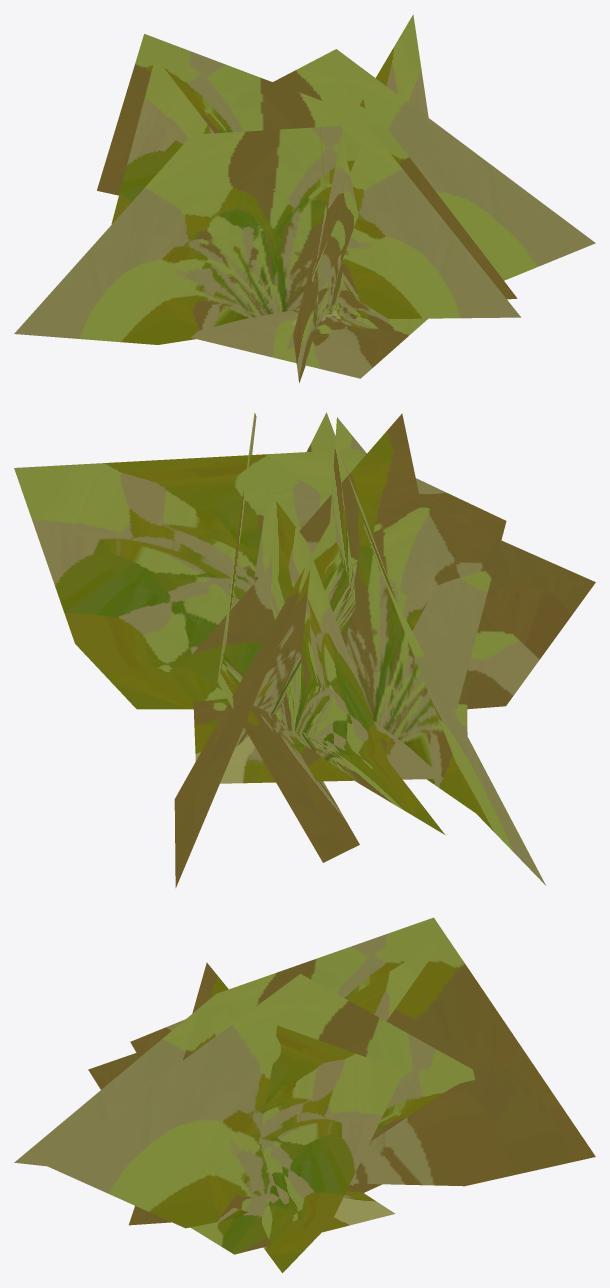
File: short_aged.glb
3 views of the same model, one above another, from view 1: azimuth 30°, elevation 25°; view 2: azimuth 150°, elevation 25°; view 3: azimuth 270°, elevation 25° (orthographic). The views are drawn at different scales.
Parts seen in each view (by area): view 1: short_aged; view 2: short_aged; view 3: short_aged.
Boxes of the visible parts, x1,y1,x2,y2 form: short_aged: (14, 14, 595, 382); short_aged: (14, 412, 595, 887); short_aged: (14, 917, 595, 1272).
Bounding box in the file's own units: 0.3598 × 0.2372 × 0.4579.
Materials: 1 (1 with a texture image).
